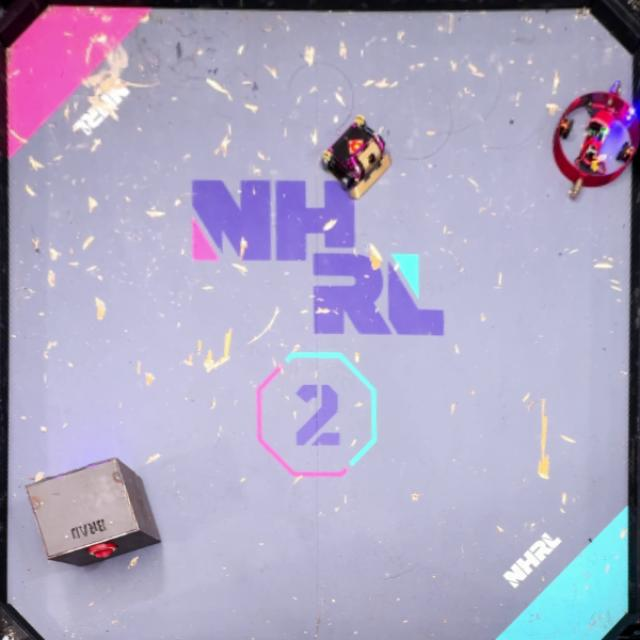housebot: (25, 458, 162, 568)
robot: (552, 80, 640, 197), (320, 117, 390, 198)
